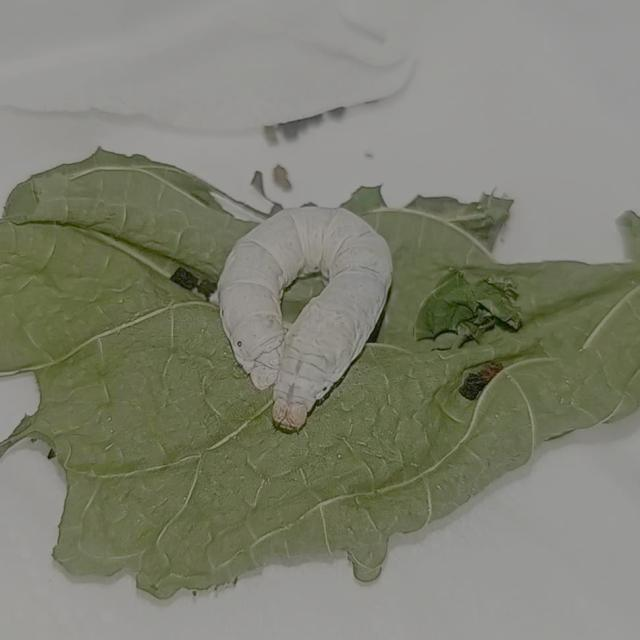Healthy: (194, 175, 414, 444)
